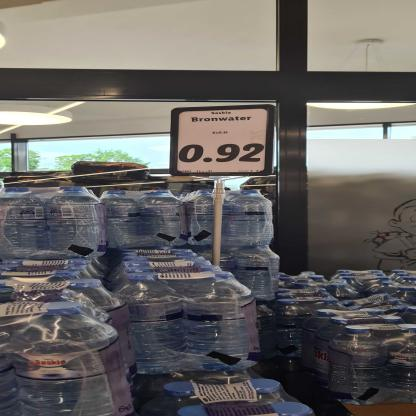prtg: (178, 110, 269, 173)
